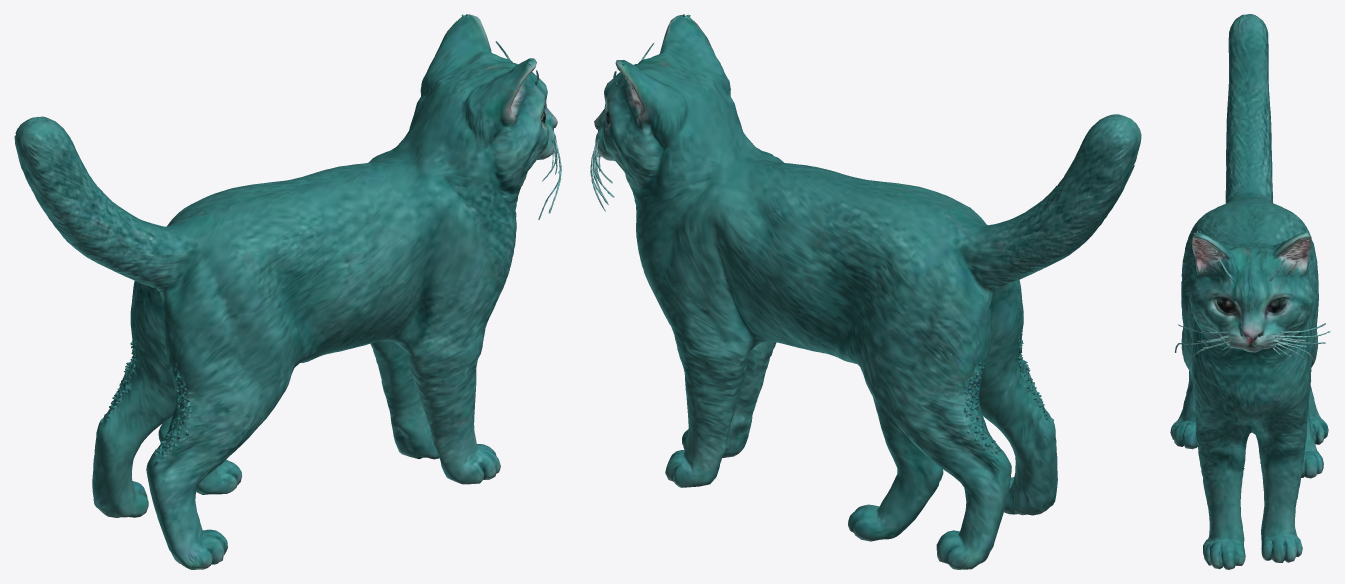
The model's file is MOONRESCUE.glb.
The picture shows the model from 3 angles, left to right: view 1: azimuth 30°, elevation 25°; view 2: azimuth 150°, elevation 25°; view 3: azimuth 270°, elevation 25°; orthographic projection. The views are drawn at different scales.
Parts seen in each view (by area): view 1: tripo_node_665b9484-f0a6-494c-9ff0-6f88a7e82086; view 2: tripo_node_665b9484-f0a6-494c-9ff0-6f88a7e82086; view 3: tripo_node_665b9484-f0a6-494c-9ff0-6f88a7e82086.
Boxes of the visible parts, box(x1,y1,x2,y2) form: tripo_node_665b9484-f0a6-494c-9ff0-6f88a7e82086: box(14, 14, 561, 569); tripo_node_665b9484-f0a6-494c-9ff0-6f88a7e82086: box(590, 14, 1141, 569); tripo_node_665b9484-f0a6-494c-9ff0-6f88a7e82086: box(1170, 14, 1330, 569).
Size of the model in its own units: 1.25 by 0.9998 by 0.3864.
1 material, 1 textured.
